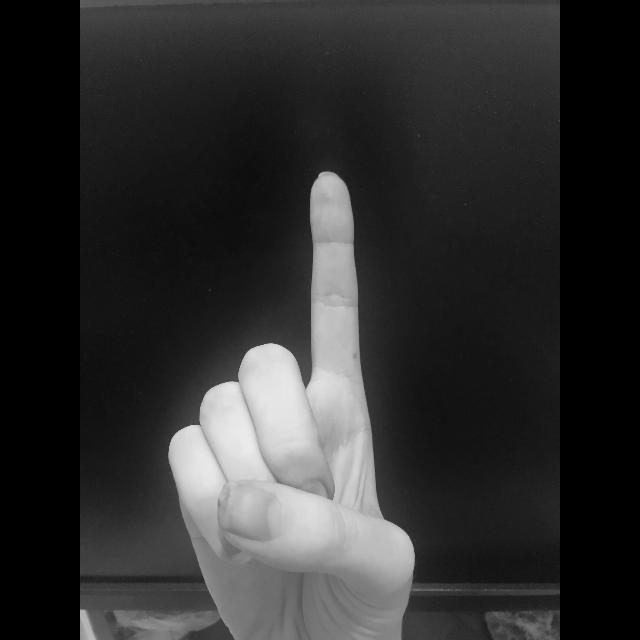D: (162, 168, 420, 640)
